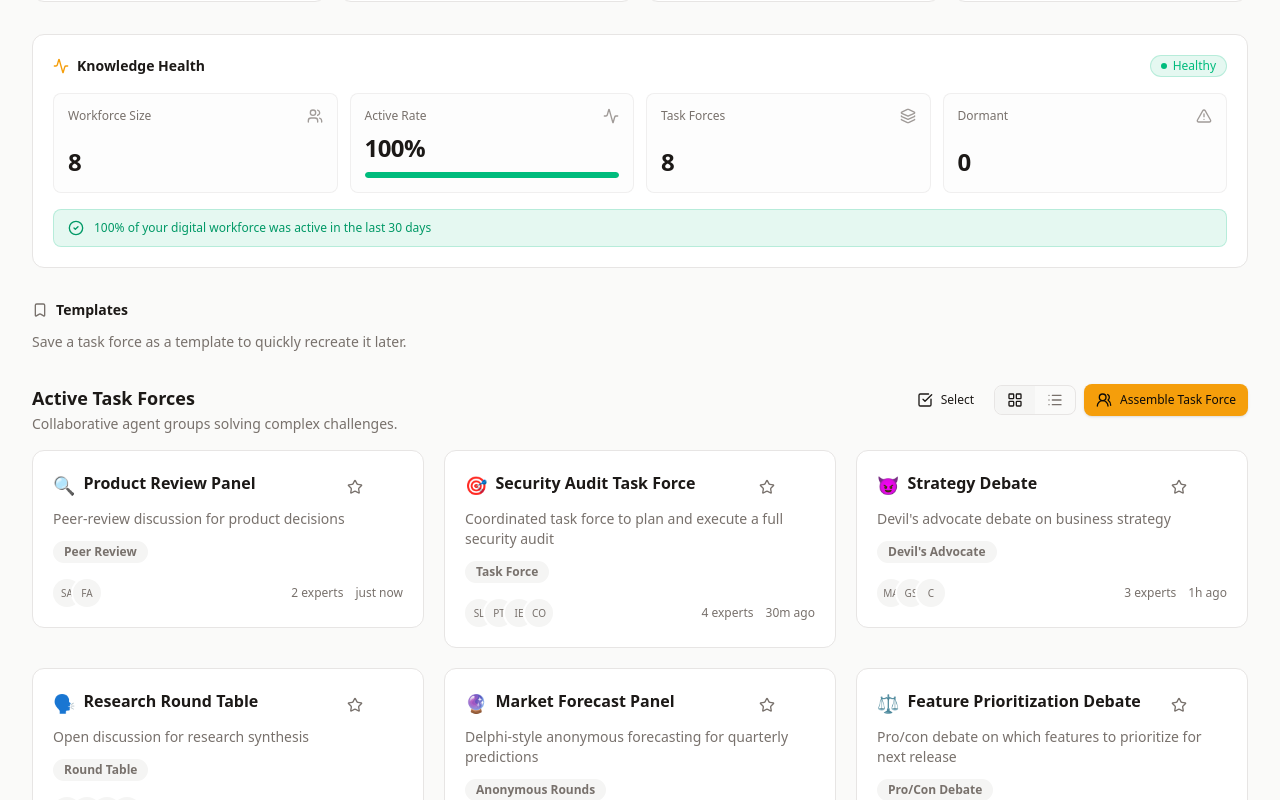
Test: WorkforceDashboard bulk delete › still deletes nothing when the dialog is dismissed
(page scrolled)
Click the button "Select" at (945, 400), box [905,384,986,416]
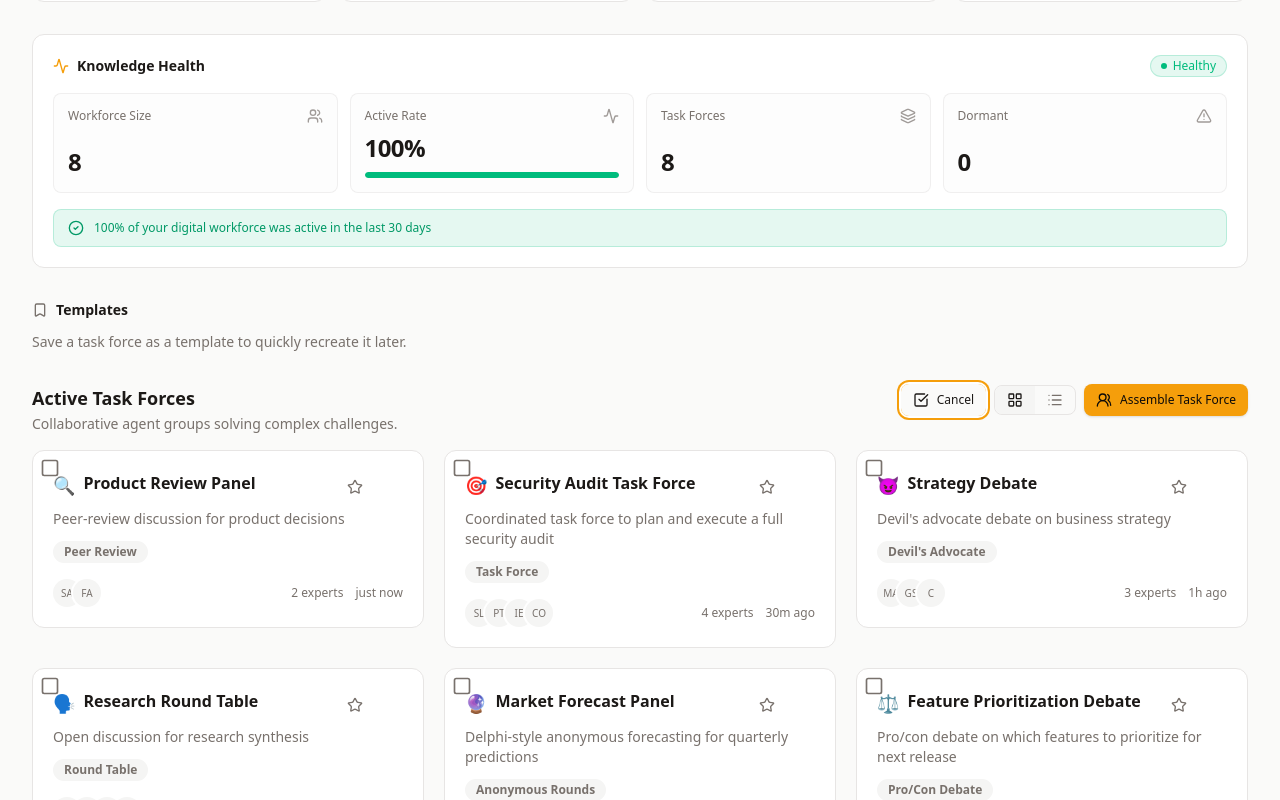
expect the button named "Select" next to "Product Review Panel" is shown: met
Click the button named "Select" next to "Product Review Panel" at (50, 468), box [40,458,60,478]
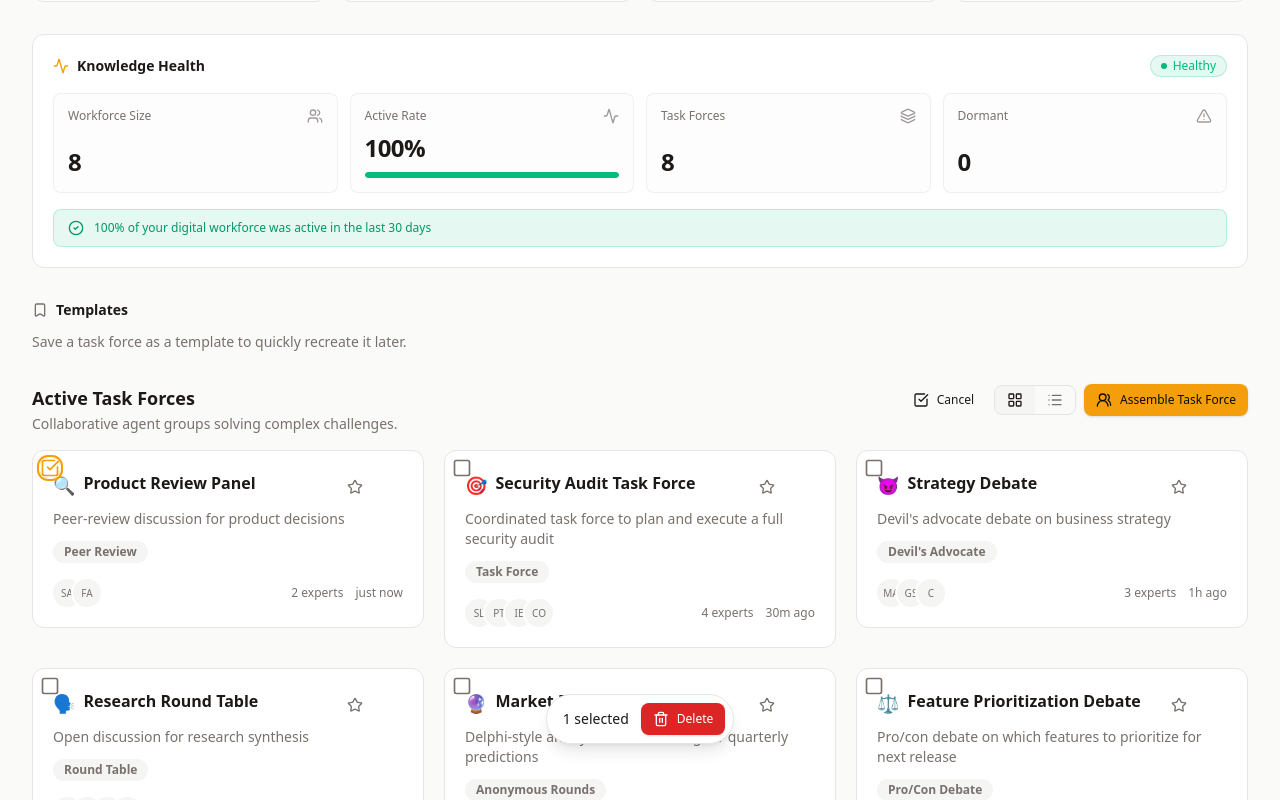
Click the button with test id "bulk-delete-btn" at (683, 719), box [641,703,725,735]
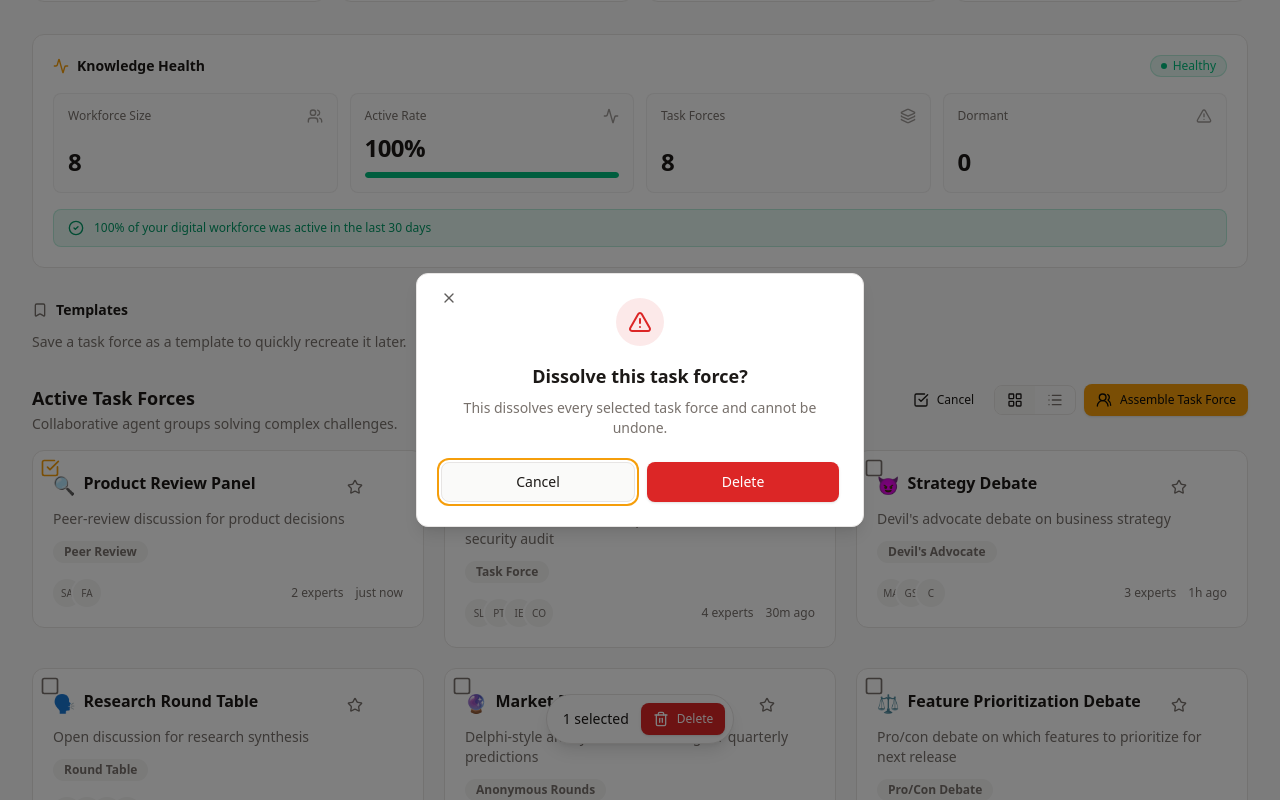
Click the button "Cancel" at (538, 482), box [441,462,635,502]
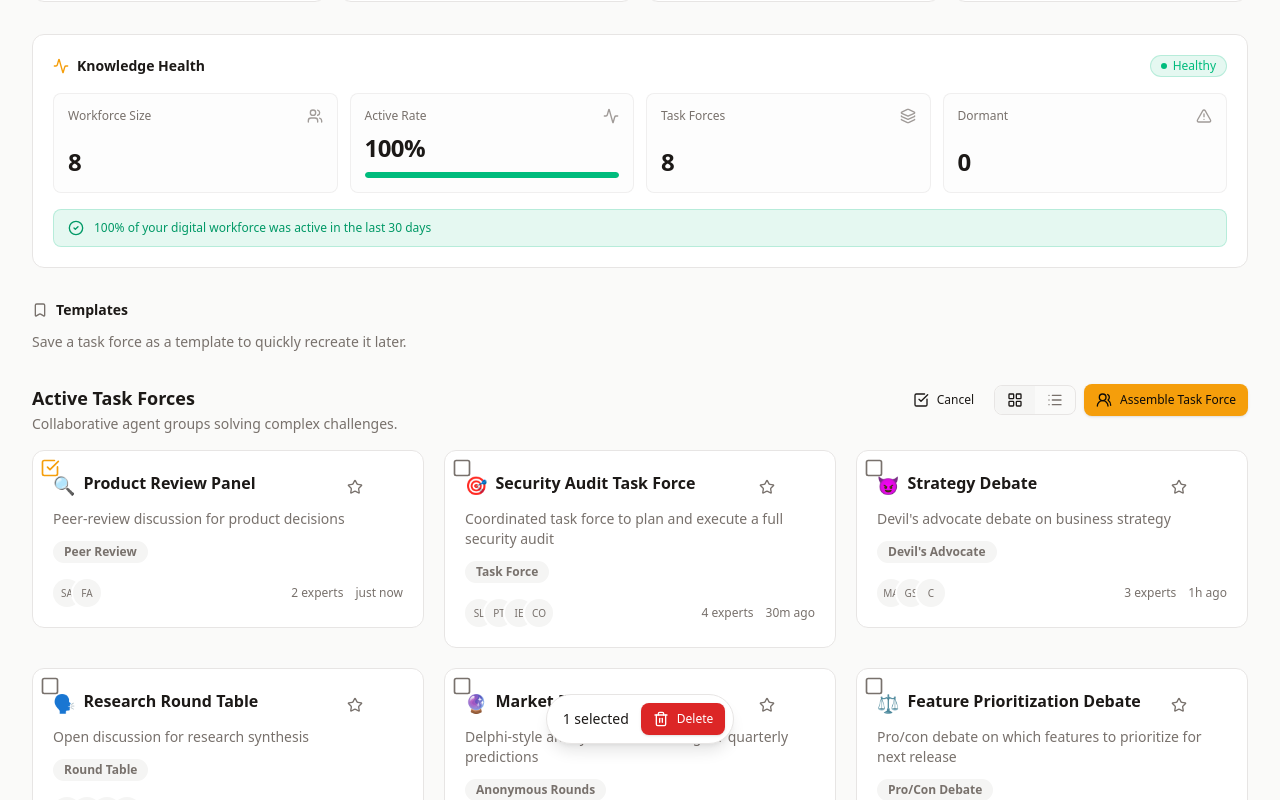
expect the dialog is gone: met
